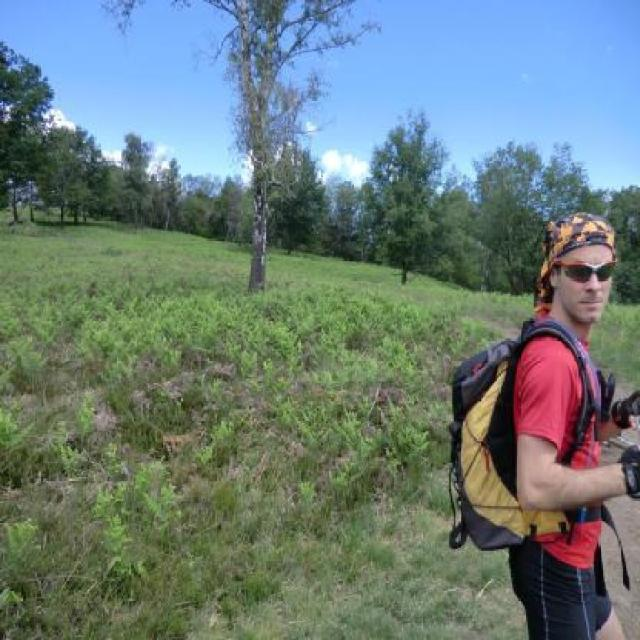backpack: (440, 322, 522, 558)
